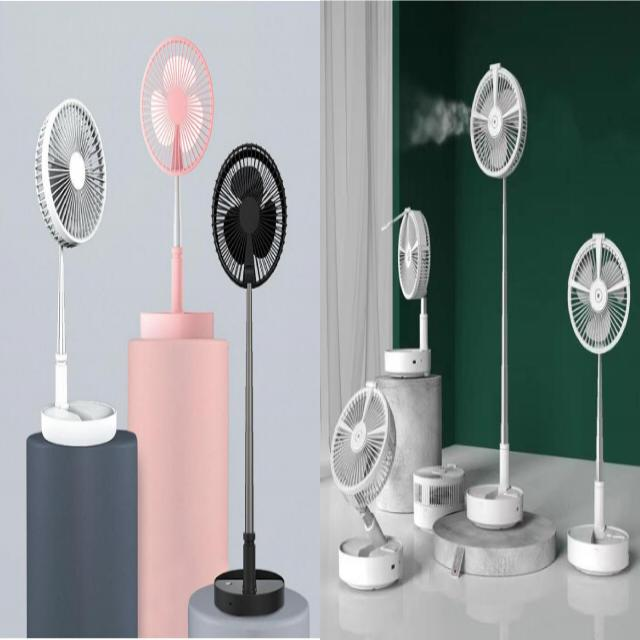fan: (28, 39, 631, 615)
